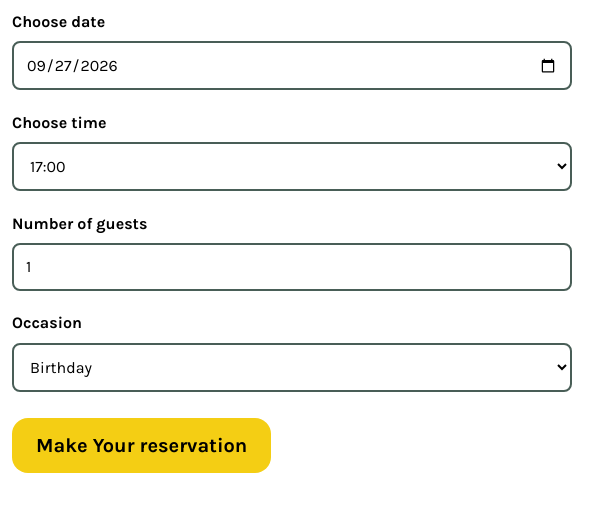
Test case: BookingForm validation › disables submission for an invalid guest count (1.5)
Replace the text in the number field labelled "Number of guests" with "1.5" at coordinates (292, 267), box [12, 243, 572, 291]
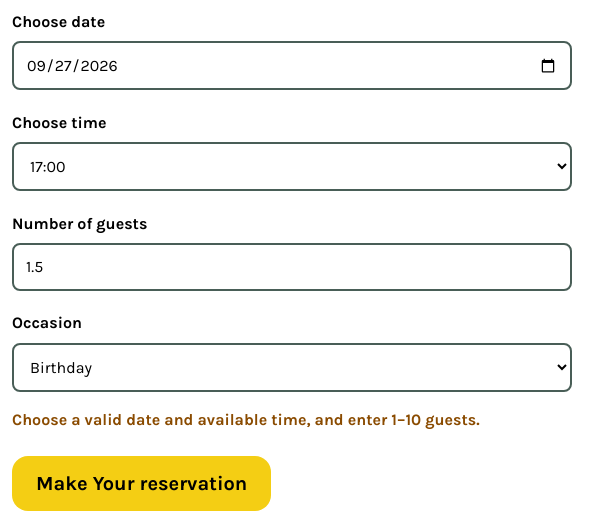
Check: the button "Make Your reservation" is disabled, box [12, 456, 271, 510]
Check: the message "Choose a valid date and available time, and enter 1–10 guests." is shown, box [12, 410, 480, 429]
